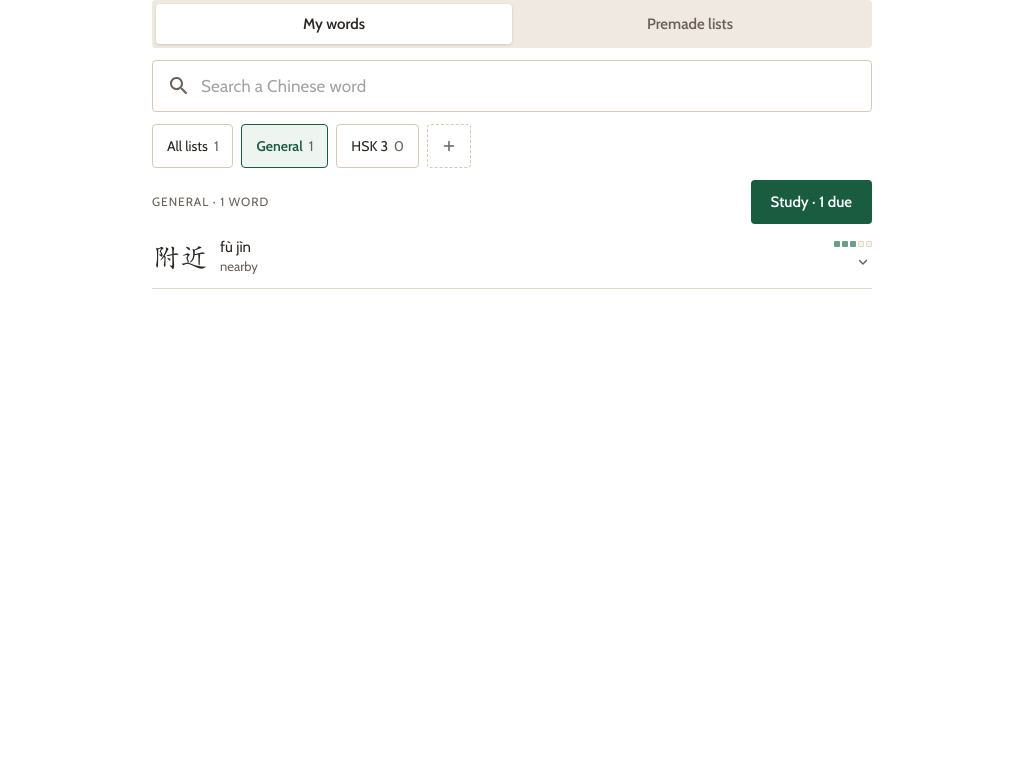
Test: AddWords — the word rows › does not let the learner clear the last list of a word
The image size is (1024, 768).
Click the text "附近".
click(180, 256)  # box x1=152 y1=242 x2=208 y2=270
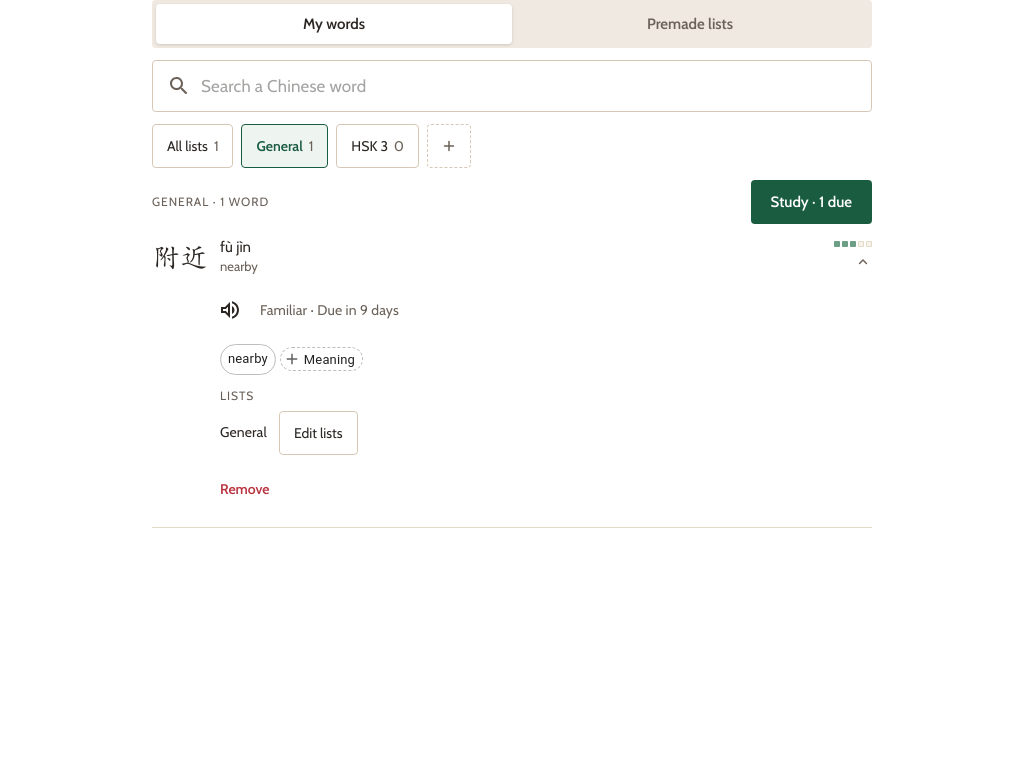
Click the button "Edit lists".
click(318, 433)  # box x1=279 y1=411 x2=358 y2=455
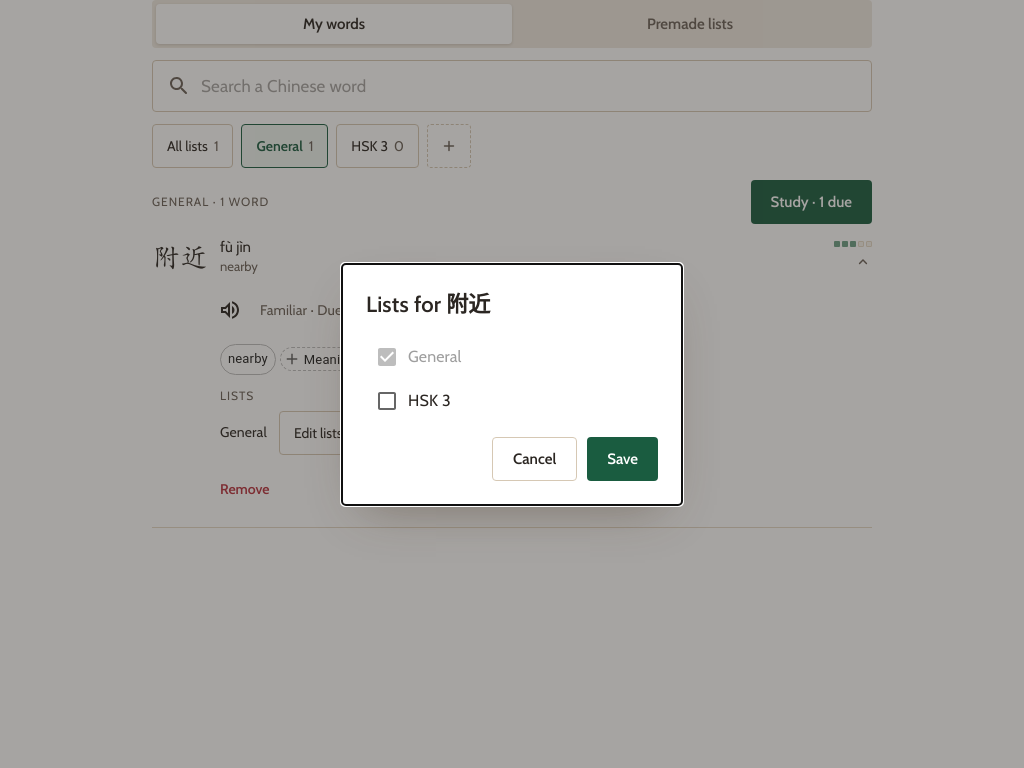
Result: the checkbox labelled "General" is disabled at x1=375 y1=344 x2=462 y2=368
